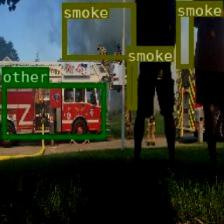smoke: (61, 2, 135, 59), (175, 0, 193, 68), (126, 62, 136, 109)
